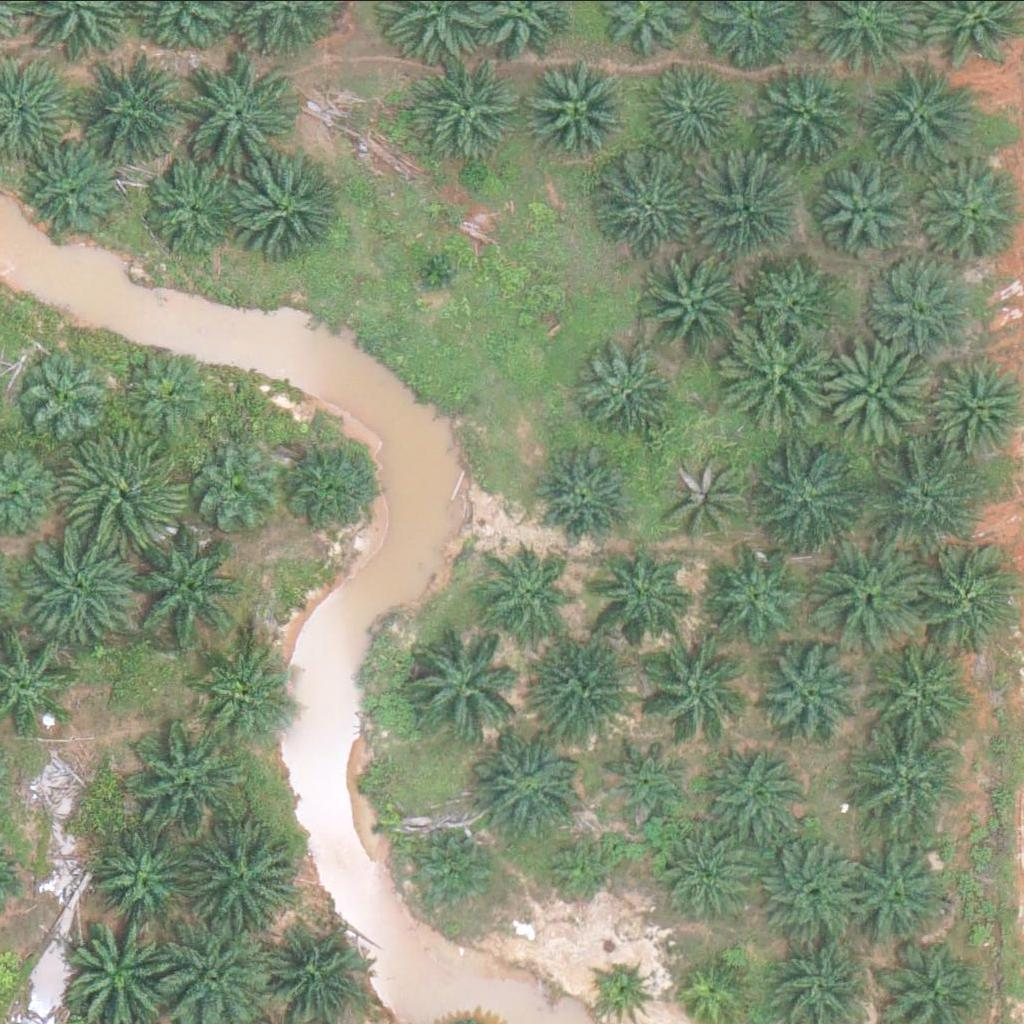Kelapa_Sawit: (865, 63, 979, 176), (185, 823, 299, 936), (234, 152, 347, 265), (692, 151, 805, 264), (403, 626, 516, 739), (476, 732, 589, 845), (754, 834, 867, 947), (842, 837, 955, 950), (64, 435, 177, 548), (634, 628, 748, 740), (851, 730, 965, 842), (71, 53, 185, 165), (25, 524, 139, 636), (182, 61, 295, 173), (636, 247, 749, 359), (719, 324, 832, 436), (817, 337, 930, 449), (872, 435, 985, 547), (751, 439, 864, 551), (127, 535, 240, 647), (813, 541, 926, 653), (870, 640, 983, 752), (531, 637, 644, 749), (127, 724, 240, 836), (144, 158, 245, 258), (822, 158, 923, 258), (866, 257, 967, 357), (577, 343, 678, 443), (597, 547, 698, 647), (759, 645, 860, 745), (710, 745, 811, 845), (91, 829, 192, 929), (24, 139, 125, 239), (422, 58, 522, 158), (531, 57, 631, 157), (647, 57, 747, 157), (763, 61, 863, 161), (607, 155, 707, 255), (279, 437, 379, 537), (532, 446, 632, 546), (701, 547, 801, 647), (200, 640, 300, 740), (658, 822, 758, 922), (750, 259, 838, 347), (186, 445, 274, 533), (604, 734, 692, 822), (412, 829, 500, 917), (121, 348, 209, 436), (663, 450, 751, 537), (493, 548, 581, 635), (29, 351, 117, 438), (543, 830, 618, 905), (594, 957, 657, 1020), (409, 250, 460, 300)
